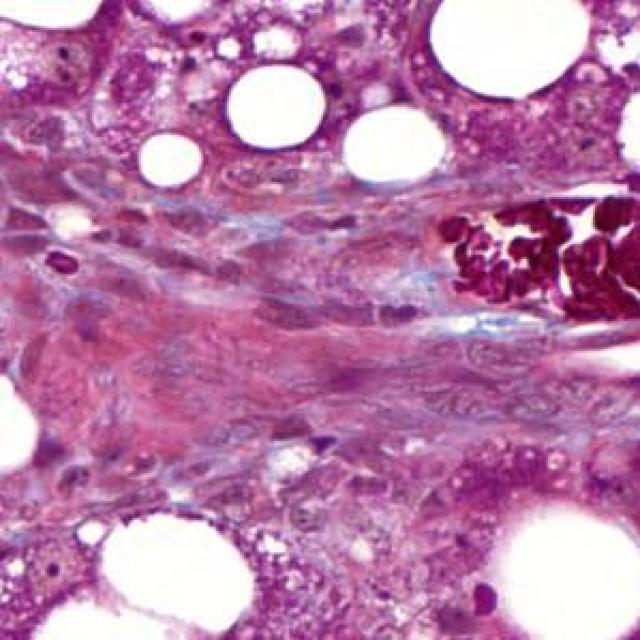steatosis: (222, 62, 332, 152), (346, 101, 452, 182), (137, 126, 205, 188)
